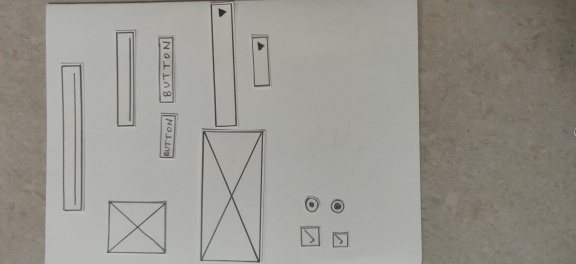button: (157, 34, 176, 106), (158, 111, 178, 161)
checkbox: (298, 224, 322, 249), (331, 229, 350, 249)
dropdown: (210, 1, 238, 126), (250, 33, 273, 89)
img: (198, 128, 265, 263), (105, 199, 169, 255)
radio: (303, 195, 320, 214), (329, 198, 347, 214)
text: (59, 62, 86, 212), (113, 29, 139, 129)
